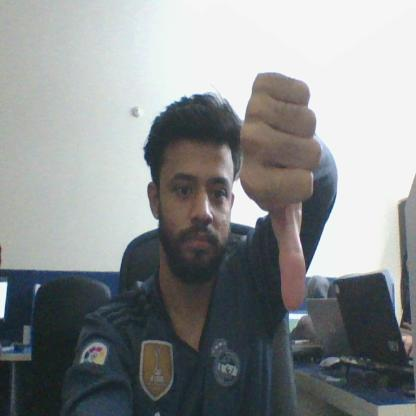thumbs-down: (238, 69, 324, 314)
